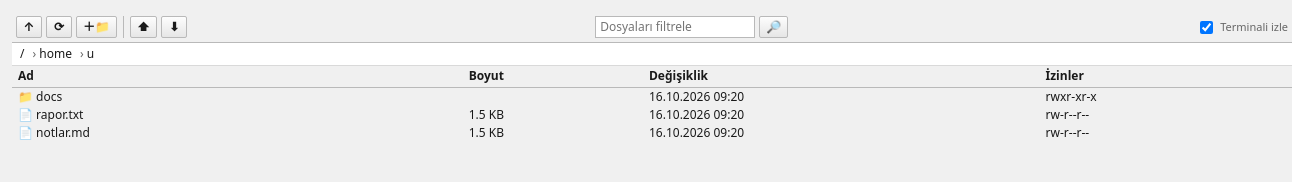
Scenario: pasting something copied on another connection explains it is unsupported
Expected: the text "rapor.txt" is shown, [36, 106, 84, 123]
Right-click the table named "Dosyalar" at [652, 104], box [12, 66, 1291, 142]
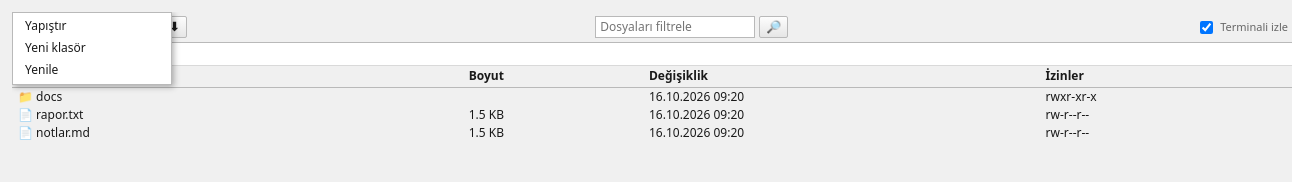
Click the menu item "Yapıştır" at [92, 26], box [15, 15, 169, 37]
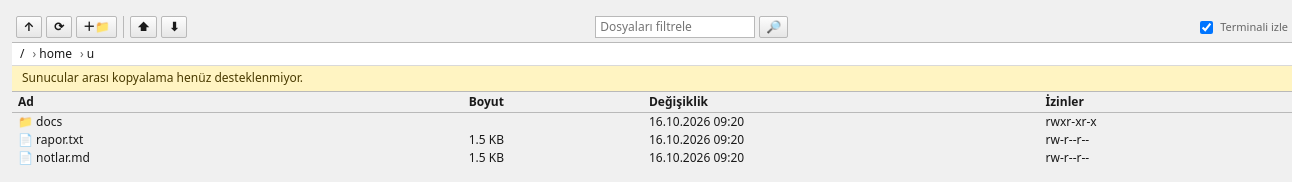
Now the text "Sunucular arası kopyalama henüz desteklenmiyor." is shown, box [12, 66, 1291, 92]
